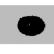correct: (15, 12, 52, 41)
